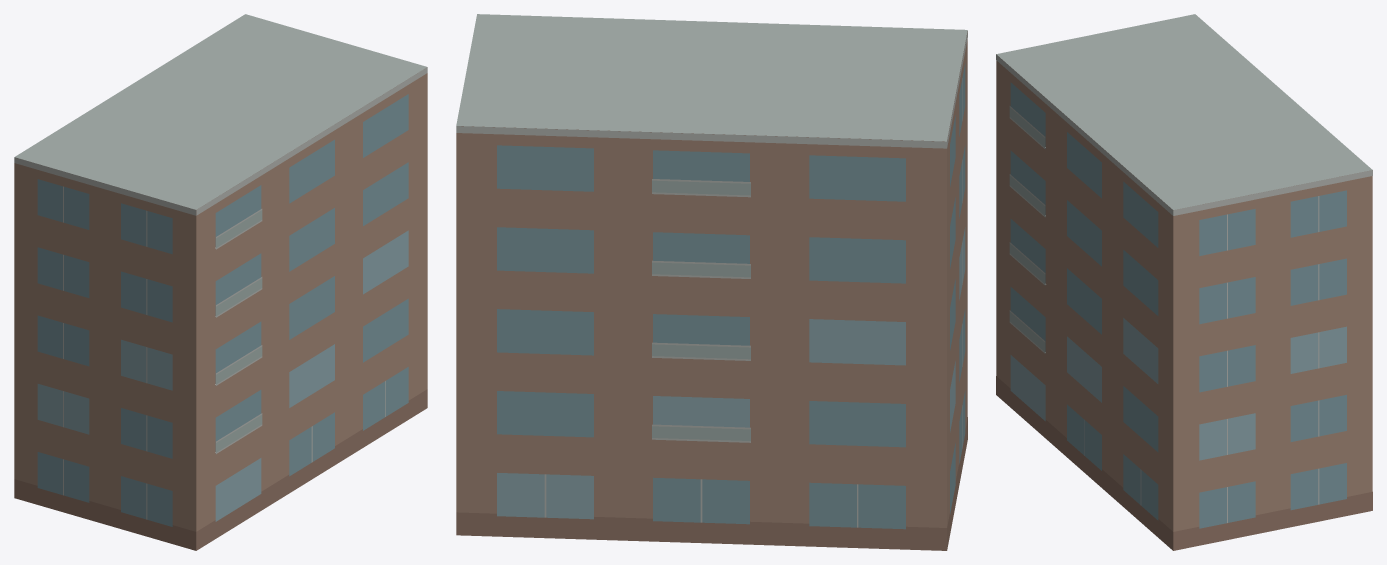
File: survey-upis-32741026.glb
3 views of the same model, side by side, from view 1: azimuth 30°, elevation 25°; view 2: azimuth 150°, elevation 25°; view 3: azimuth 270°, elevation 25° (orthographic). The views are drawn at different scales.
Parts seen in each view (by area): view 1: survey-upis-32741026.tmp; view 2: survey-upis-32741026.tmp; view 3: survey-upis-32741026.tmp.
Boxes of the visible parts, left/top/right/bottom form: survey-upis-32741026.tmp: left=14, top=14, right=427, bottom=550; survey-upis-32741026.tmp: left=456, top=14, right=967, bottom=550; survey-upis-32741026.tmp: left=996, top=14, right=1372, bottom=550.
Size of the model in its own units: 17.42 by 14.1 by 14.14.
